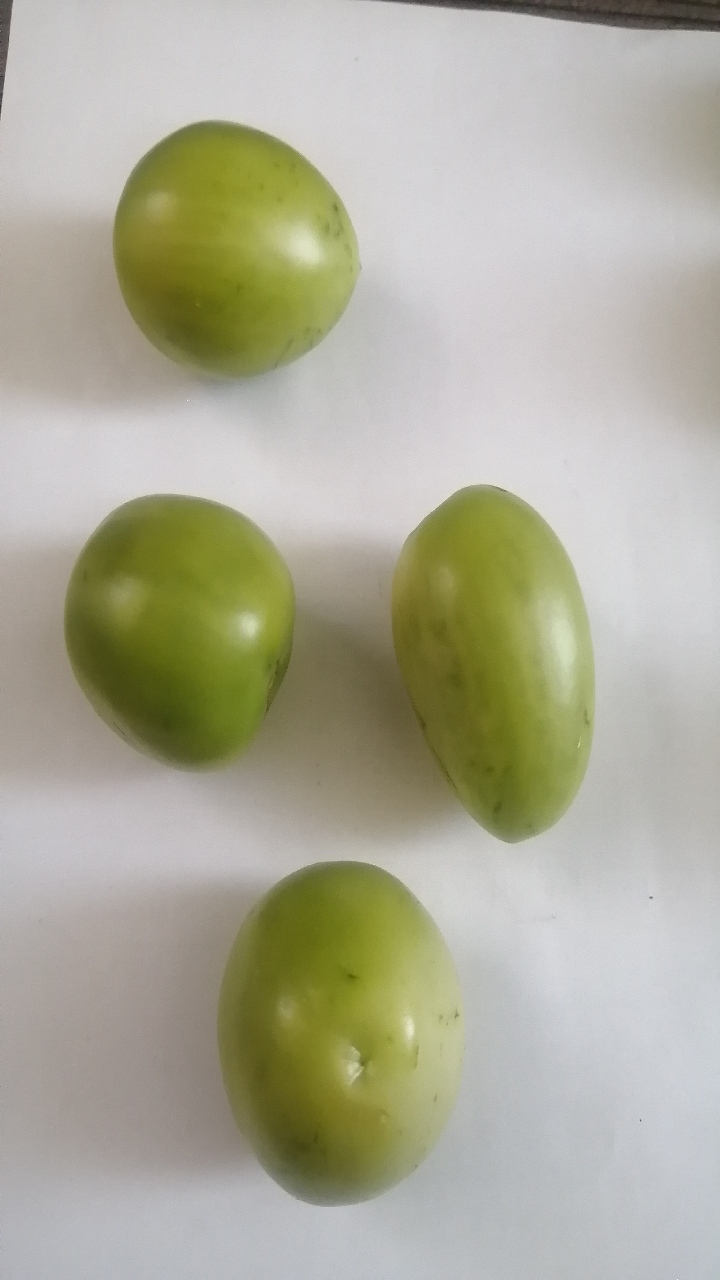tomateVerde: (200, 845, 483, 1228), (86, 102, 395, 400), (374, 466, 600, 862), (49, 472, 320, 800)
